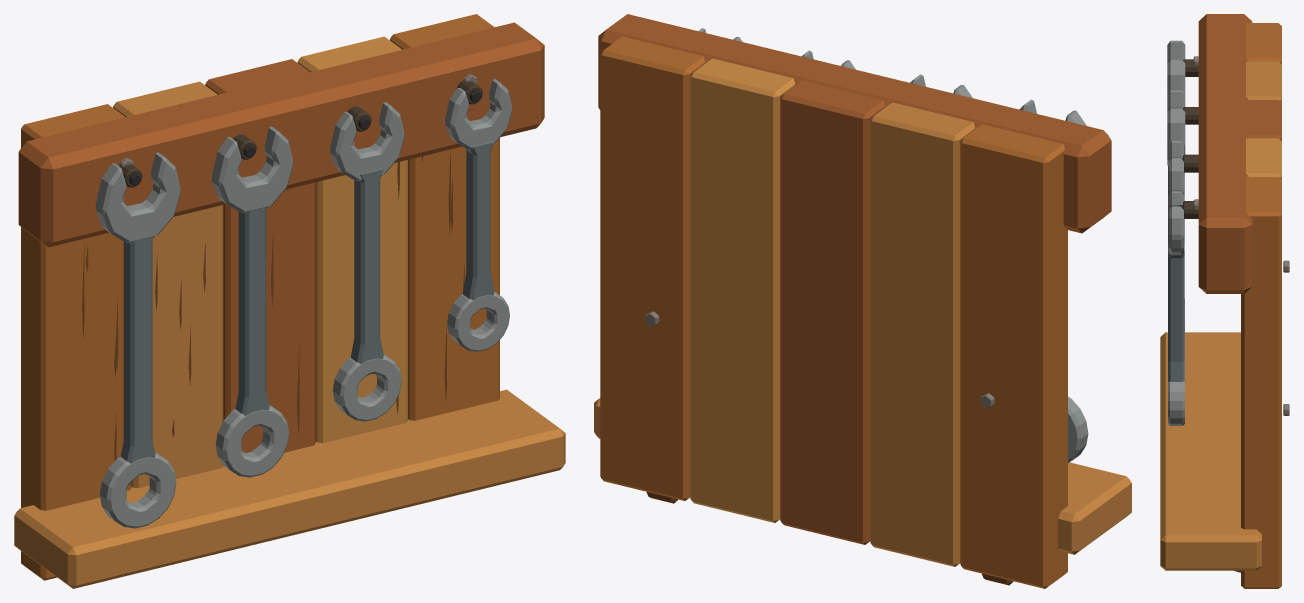
File: audit-062-10-shop-wall-tool-rack.glb
3 views of the same model, side by side, from view 1: azimuth 30°, elevation 25°; view 2: azimuth 150°, elevation 25°; view 3: azimuth 270°, elevation 25° (orthographic). The views are drawn at different scales.
Parts seen in each view (by area): view 1: oak1, oak2, oak0, brushed, wrench, oak3, edge, peg; view 2: oak0, oak2, oak1, oak3, brushed; view 3: oak1, oak0, oak2, brushed, wrench, oak3, peg, nail.
Part boxes in pixels (box(x1,y1,x2,y2)): oak1: box(14, 81, 565, 588); oak2: box(18, 22, 544, 452); oak0: box(21, 14, 499, 580); brushed: box(95, 79, 511, 528); wrench: box(120, 141, 494, 463); oak3: box(297, 36, 407, 443); edge: box(82, 149, 464, 460); peg: box(119, 80, 482, 187); oak0: box(600, 36, 1067, 588); oak2: box(598, 14, 1111, 544); oak1: box(594, 102, 1131, 566); oak3: box(690, 58, 794, 522); brushed: box(698, 28, 1088, 462); oak1: box(1160, 61, 1281, 570); oak0: box(1241, 23, 1281, 588); oak2: box(1198, 14, 1281, 293); brushed: box(1167, 40, 1185, 425); wrench: box(1168, 166, 1184, 381); oak3: box(1246, 138, 1281, 179); peg: box(1183, 59, 1198, 218); nail: box(1193, 56, 1289, 415).
Size of the model in its own units: 1.12 by 0.9611 by 0.29.
